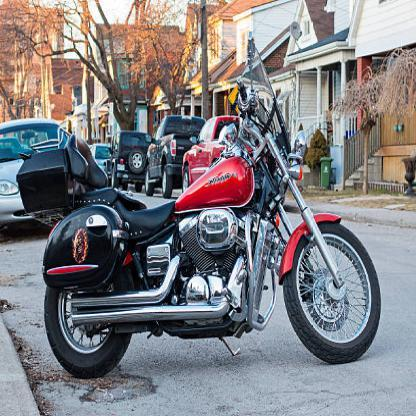Motorcycle: (29, 98, 386, 365)
